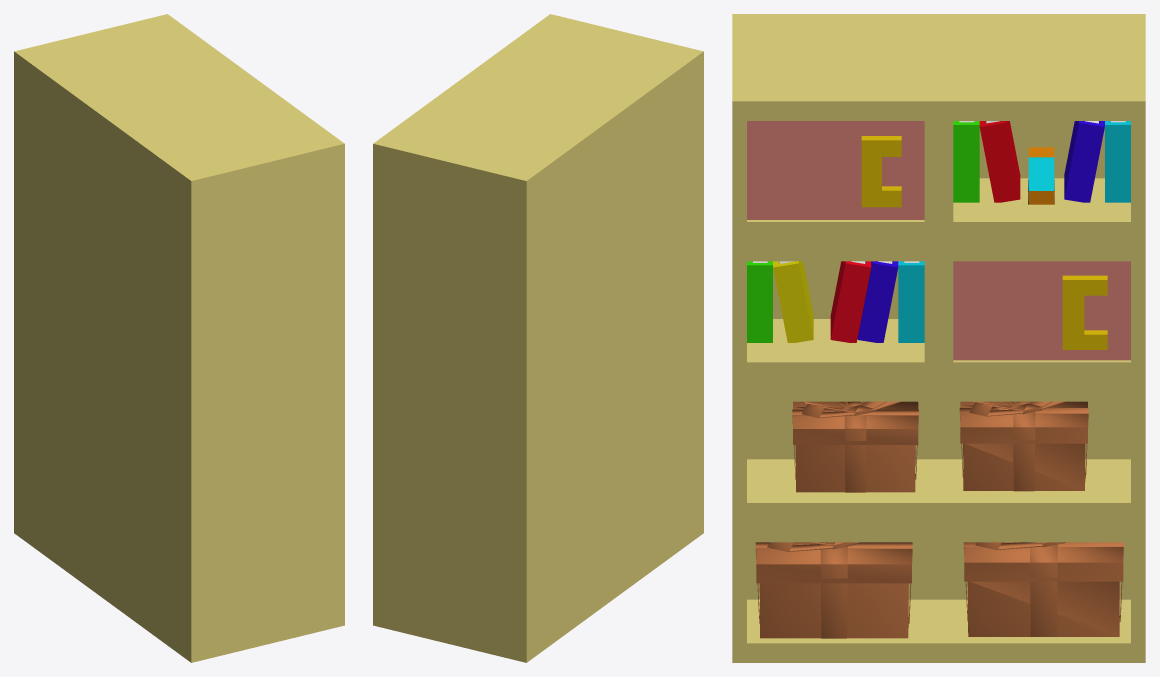
Rendered from shkaf.fbx.
The picture shows the model from 3 angles, left to right: view 1: azimuth 30°, elevation 25°; view 2: azimuth 150°, elevation 25°; view 3: azimuth 270°, elevation 25°; orthographic projection. The views are drawn at different scales.
Parts seen in each view (by area): view 1: Cube; view 2: Cube; view 3: Cube, Cube.007, Cube.005.
Boxes of the visible parts, x1=… form: Cube: x1=14, y1=14, x2=344, y2=662; Cube: x1=373, y1=14, x2=703, y2=662; Cube: x1=732, y1=14, x2=1145, y2=662; Cube.007: x1=747, y1=121, x2=1130, y2=342; Cube.005: x1=1028, y1=147, x2=1054, y2=204.
Size of the model in its own units: 205 by 600 by 400.
Materials: 35 (4 with a texture image).
